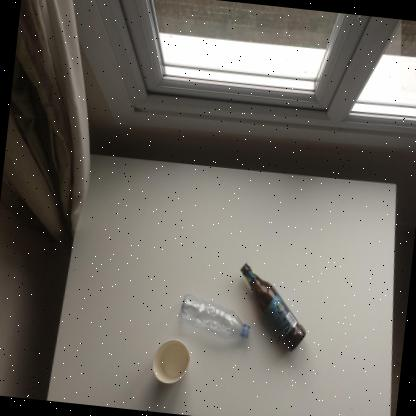Clear plastic bottle: (178, 293, 250, 339)
Glass bottle: (240, 262, 306, 352)
Paper cup: (152, 338, 190, 383)
